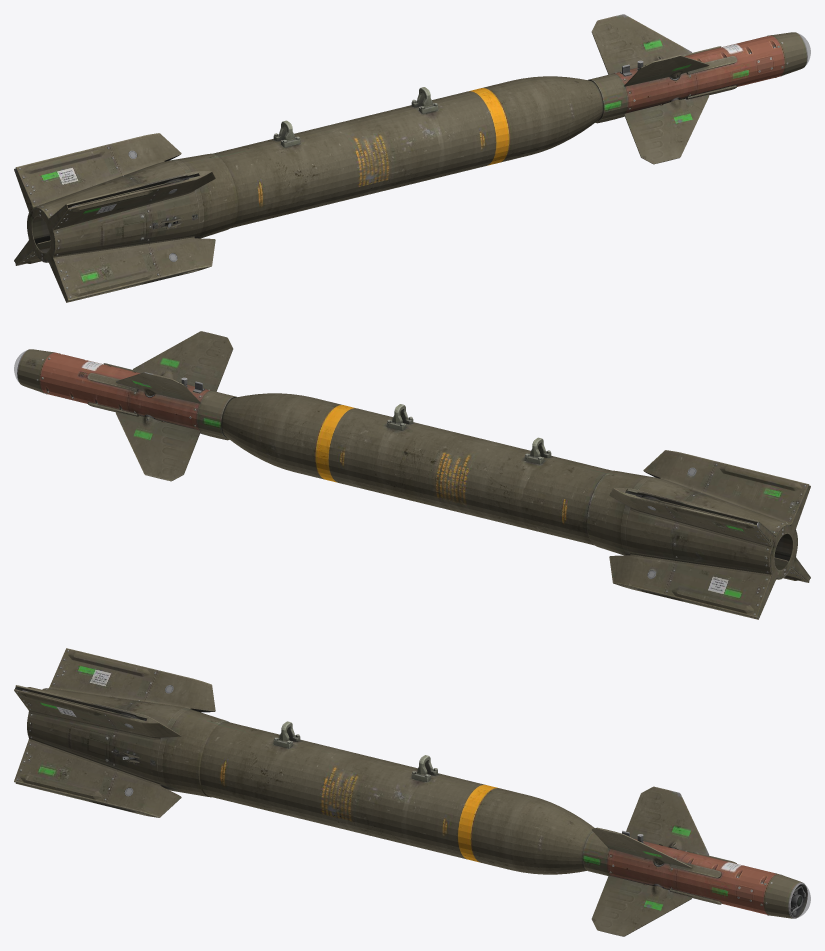
File: us_2000lb_gbu_27.obj
3 renders of one model, top to bottom at view 1: azimuth 30°, elevation 25°; view 2: azimuth 150°, elevation 25°; view 3: azimuth 330°, elevation 25°, orthographic.
Parts seen in each view (by area): view 1: us_2000lb_gbu_27_1_0; view 2: us_2000lb_gbu_27_1_0; view 3: us_2000lb_gbu_27_1_0, us_2000lb_gbu_27_1_2.
Boxes of the visible parts, left/top/right/bottom form: us_2000lb_gbu_27_1_0: left=14, top=14, right=807, bottom=302; us_2000lb_gbu_27_1_0: left=17, top=331, right=810, bottom=619; us_2000lb_gbu_27_1_0: left=14, top=648, right=807, bottom=936; us_2000lb_gbu_27_1_2: left=789, top=883, right=810, bottom=917.
Size of the model in its own units: 4.24 by 0.5519 by 0.5455.
2 materials, 1 textured.
